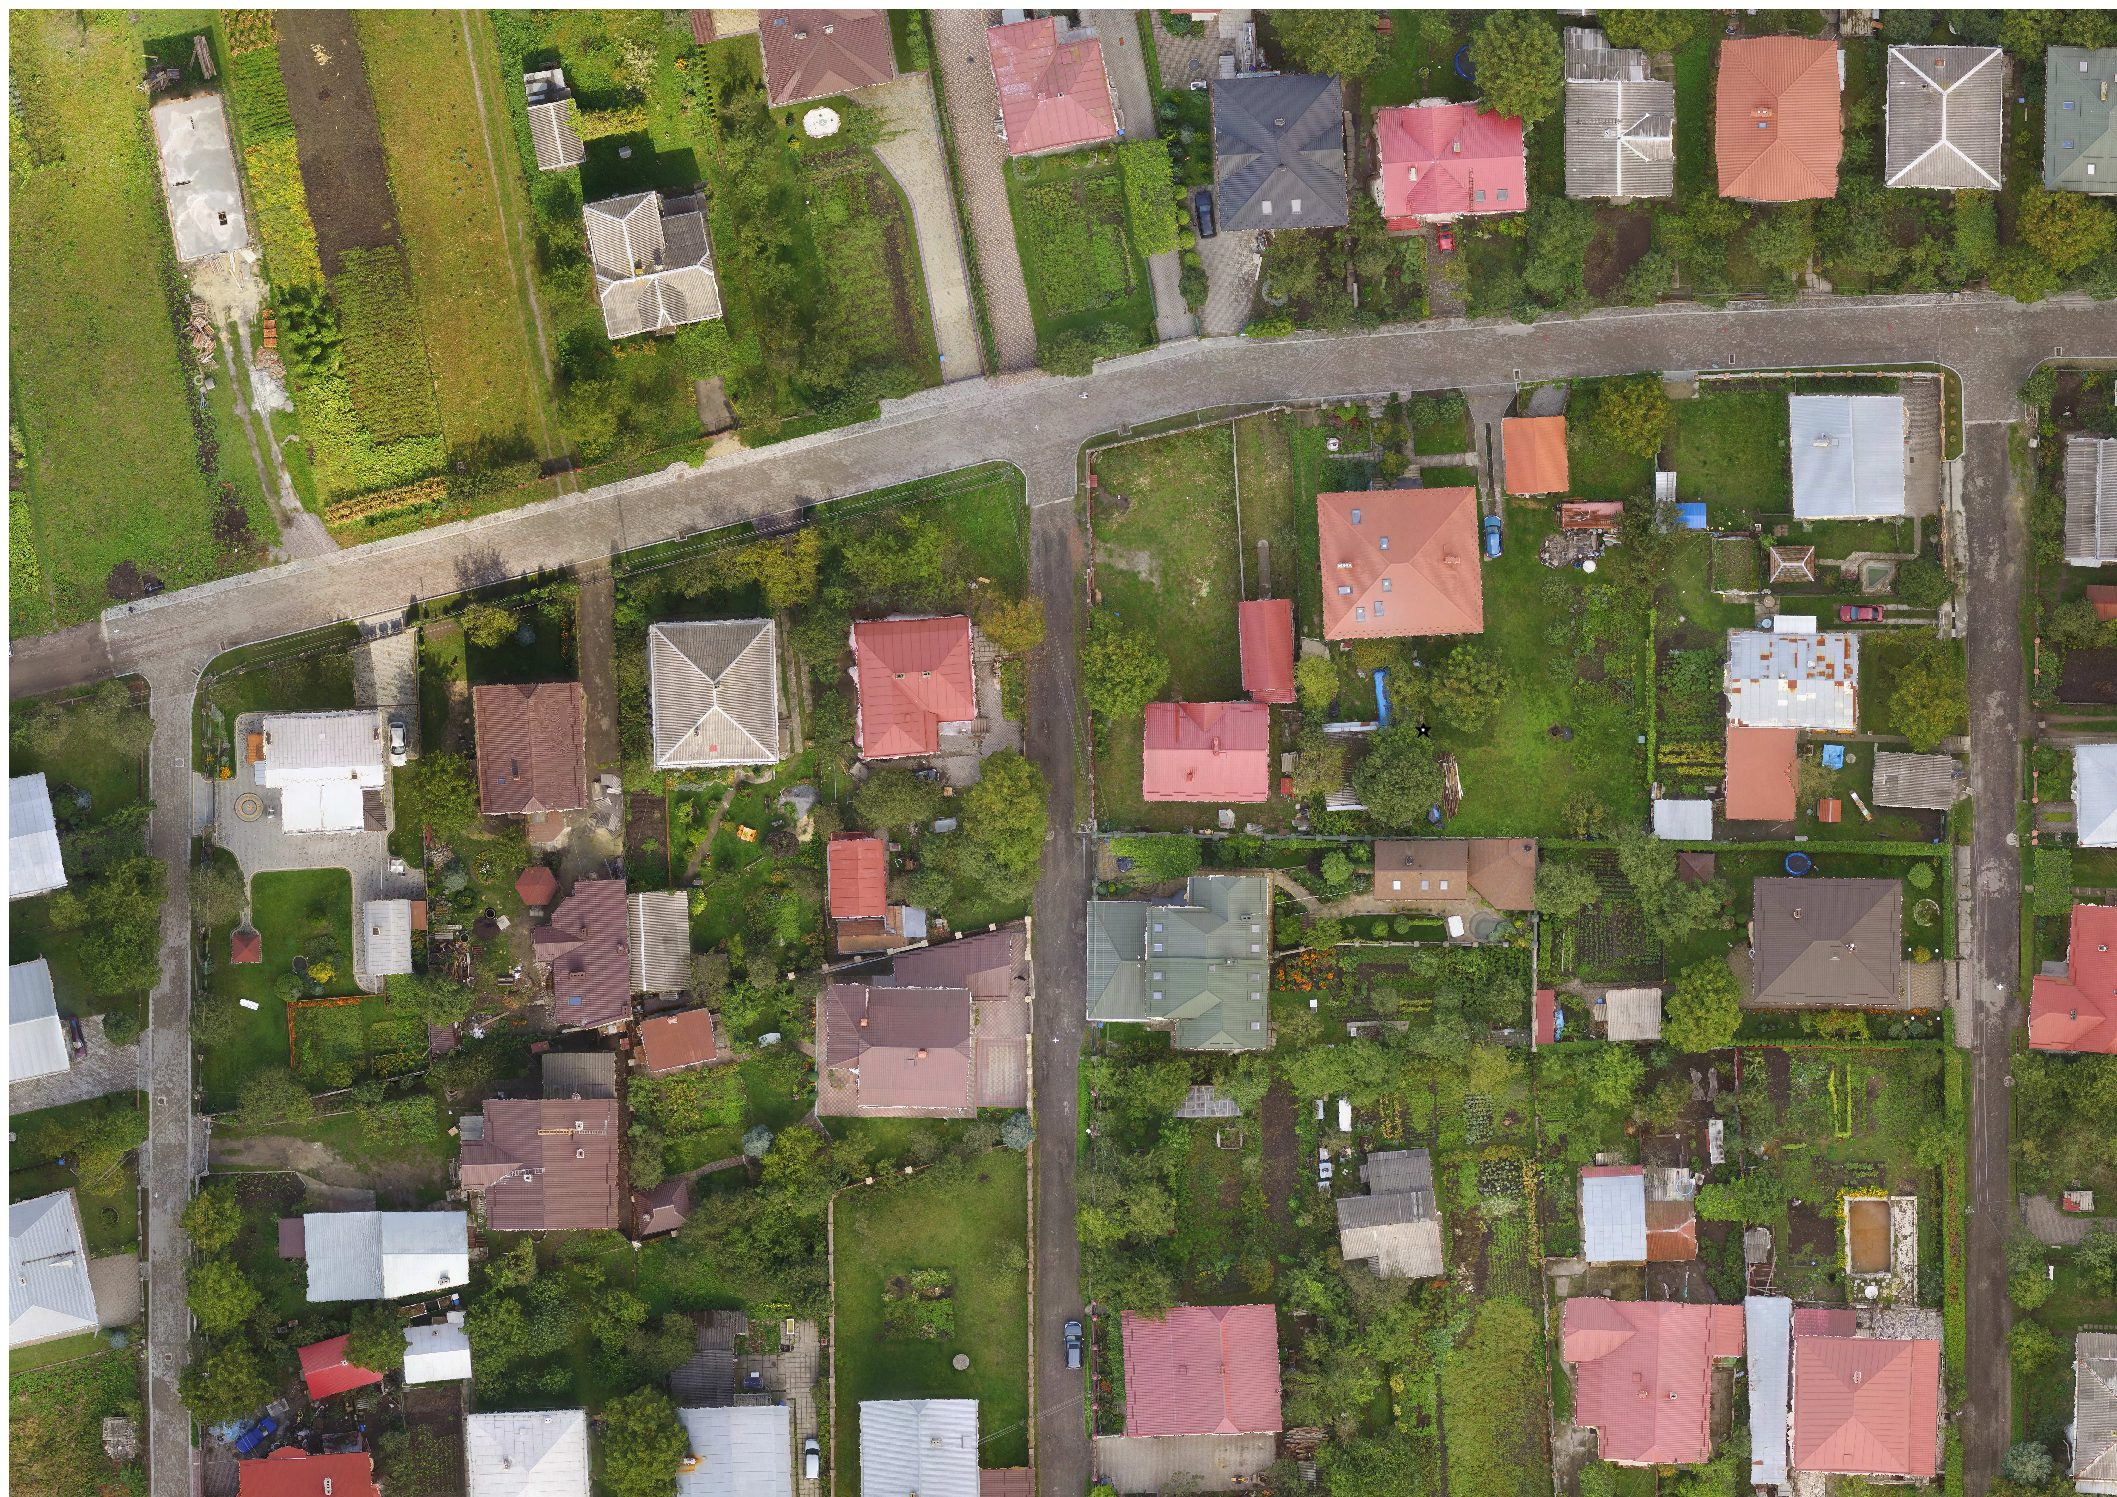build: (1076, 860, 1288, 1061), (1097, 1288, 1289, 1497), (445, 1043, 640, 1244), (1540, 1293, 1728, 1474), (1796, 1312, 1958, 1497), (1309, 484, 1492, 645), (807, 974, 988, 1134), (637, 599, 797, 778), (1207, 70, 1365, 243), (570, 188, 747, 343), (1707, 28, 1855, 212), (1738, 872, 1923, 1009), (1874, 31, 2020, 204), (847, 604, 995, 774), (977, 6, 1139, 160), (1558, 18, 1683, 212), (258, 689, 403, 852), (466, 655, 606, 825), (1374, 97, 1547, 227), (2, 1170, 113, 1351), (1327, 1137, 1456, 1293), (1775, 387, 1919, 523), (290, 1204, 483, 1304), (842, 1374, 996, 1497), (1372, 834, 1548, 938), (1135, 697, 1288, 805), (1720, 627, 1872, 736), (752, 2, 909, 102), (2025, 893, 2117, 1060), (458, 1401, 594, 1497), (2042, 31, 2117, 198), (2, 763, 79, 906), (2, 945, 76, 1085), (1225, 596, 1317, 702), (2059, 1320, 2117, 1481), (1485, 412, 1579, 502), (815, 834, 904, 927), (233, 1444, 381, 1497), (2059, 429, 2117, 564), (517, 70, 588, 170), (290, 1324, 389, 1395), (2060, 734, 2117, 855), (398, 1312, 479, 1385), (356, 899, 423, 983), (1770, 540, 1822, 586)
